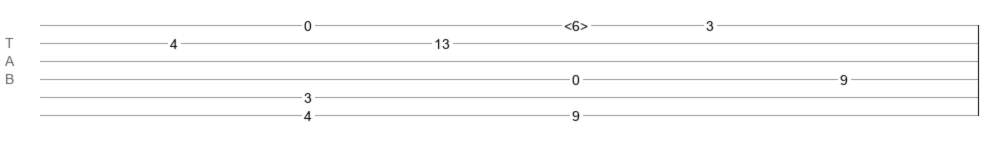0: (304, 18, 312, 28), (572, 72, 580, 82)
13: (434, 36, 450, 46)
3: (304, 90, 312, 100), (706, 18, 714, 28)
4: (170, 36, 178, 46), (304, 108, 312, 118)
9: (572, 108, 580, 118), (840, 72, 848, 82)
harmonic: (564, 18, 588, 28)
